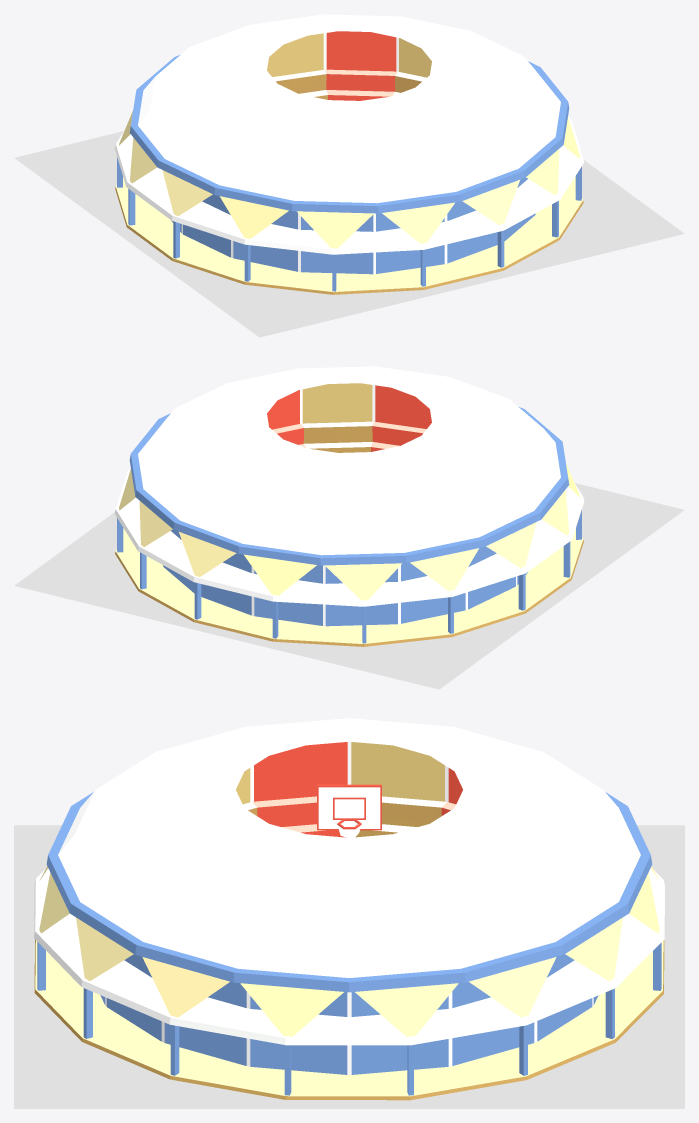
Rendered from stadiums.006.glb.
3 views of the same model, one above another, from view 1: azimuth 30°, elevation 25°; view 2: azimuth 150°, elevation 25°; view 3: azimuth 270°, elevation 25° (orthographic). The views are drawn at different scales.
Parts seen in each view (by area): view 1: stadiums.006(Clone); view 2: stadiums.006(Clone); view 3: stadiums.006(Clone).
Boxes of the visible parts, x1,y1,x2,y2 form: stadiums.006(Clone): [14, 14, 684, 337]; stadiums.006(Clone): [14, 366, 684, 689]; stadiums.006(Clone): [14, 718, 684, 1108].
Bounding box in the file's own units: 16 × 4.74 × 16.
Materials: 1 (1 with a texture image).
